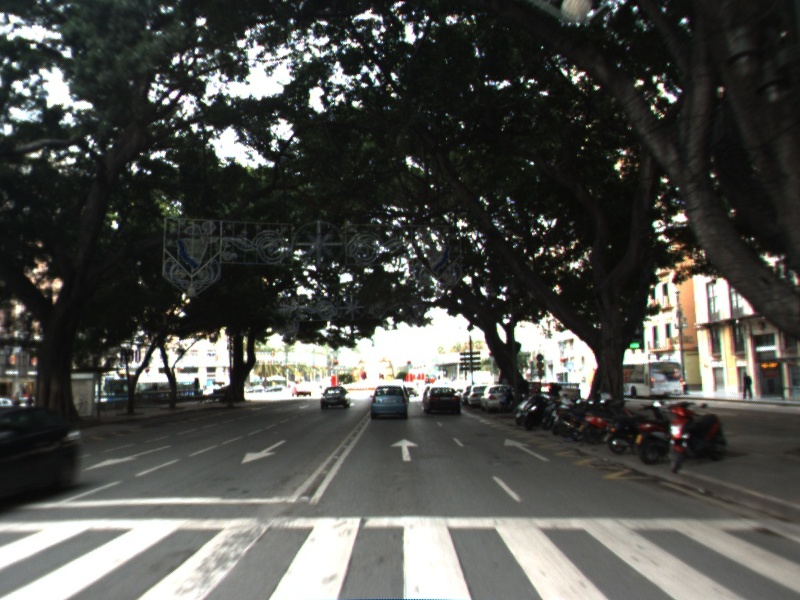STRAIGHT: (501, 436, 552, 463), (388, 436, 421, 464)
